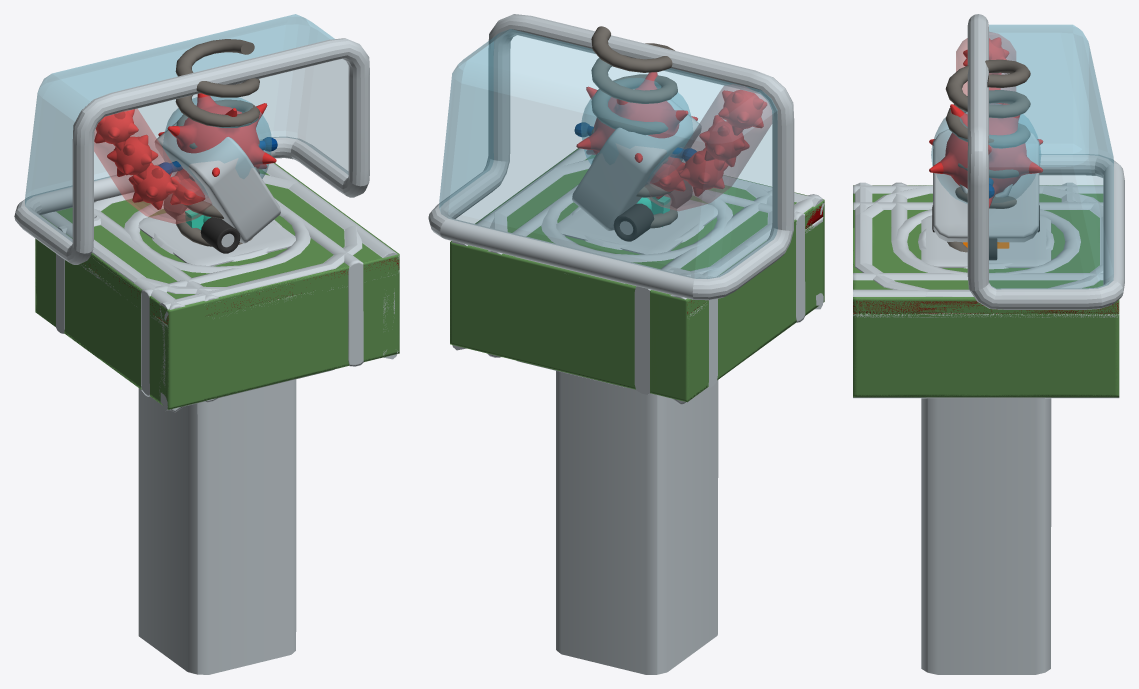
Rendered from BubbleFootballAssets1.fbx.
3 renders of one model, left to right at view 1: azimuth 30°, elevation 25°; view 2: azimuth 150°, elevation 25°; view 3: azimuth 270°, elevation 25°, orthographic. The views are drawn at different scales.
Parts seen in each view (by area): view 1: PlatformSmall_Long, PlatClean, Net, GoalBorder, PlatBorderedSide, PlatBorderInwardsX2, Tube, PlatBordered, PlatBorderInwardsCorner, Dispenser, Bubble, PlatBorderInwardsU (+13 smaller); view 2: Net, PlatformSmall_Long, PlatBorderInwardsHole, GoalBorder, Tube, PlatClean, PlatBorderInwardsCorner, Dispenser, Bubble, PlatBorderedSide, Spring, PlatBorderInwardsU (+13 smaller); view 3: PlatformSmall_Long, Net, PlatClean, GoalBorder, PlatBorderInwardsCorner, PlatBordered, Bubble, Dispenser, PlatBorderInwardsX2, Spring, SpikedBallSharp, PlatformSmall (+10 smaller).
Boxes of the visible parts, <box> form: PlatformSmall_Long: <box>138,379,296,674</box>; PlatClean: <box>35,163,399,409</box>; Net: <box>25,14,348,241</box>; GoalBorder: <box>14,38,369,264</box>; PlatBorderedSide: <box>36,163,399,408</box>; PlatBorderInwardsX2: <box>36,184,398,409</box>; Tube: <box>94,109,211,224</box>; PlatBordered: <box>92,173,362,395</box>; PlatBorderInwardsCorner: <box>141,163,399,400</box>; Dispenser: <box>154,122,280,243</box>; Bubble: <box>163,96,271,197</box>; PlatBorderInwardsU: <box>35,209,284,405</box>; Net: <box>439,29,777,278</box>; PlatformSmall_Long: <box>556,371,718,674</box>; PlatBorderInwardsHole: <box>450,190,761,401</box>; GoalBorder: <box>428,14,794,300</box>; Tube: <box>645,84,771,210</box>; PlatClean: <box>450,148,823,401</box>; PlatBorderInwardsCorner: <box>450,148,822,357</box>; Dispenser: <box>572,99,701,230</box>; Bubble: <box>581,78,692,182</box>; PlatBorderedSide: <box>476,148,811,400</box>; Spring: <box>591,26,677,228</box>; PlatBorderInwardsU: <box>650,184,782,401</box>; PlatformSmall_Long: <box>921,398,1051,674</box>; Net: <box>989,24,1113,289</box>; PlatClean: <box>853,185,1119,397</box>; GoalBorder: <box>967,14,1124,309</box>; PlatBorderInwardsCorner: <box>853,182,1119,397</box>; PlatBordered: <box>855,185,1103,398</box>; Bubble: <box>931,103,1040,203</box>; Dispenser: <box>933,129,1039,242</box>; PlatBorderInwardsX2: <box>853,185,1118,397</box>; Spring: <box>945,59,1030,252</box>; SpikedBallSharp: <box>929,104,1043,208</box>; PlatformSmall: <box>921,215,1051,267</box>.
Size of the model in its own units: 213 by 407 by 170.
